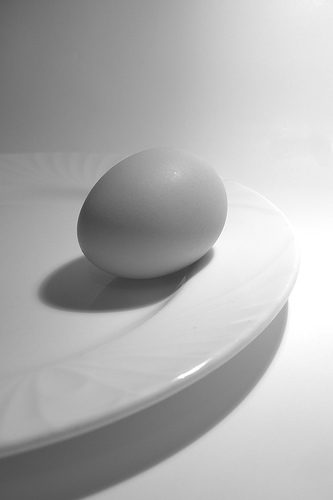egg: (75, 146, 231, 282)
